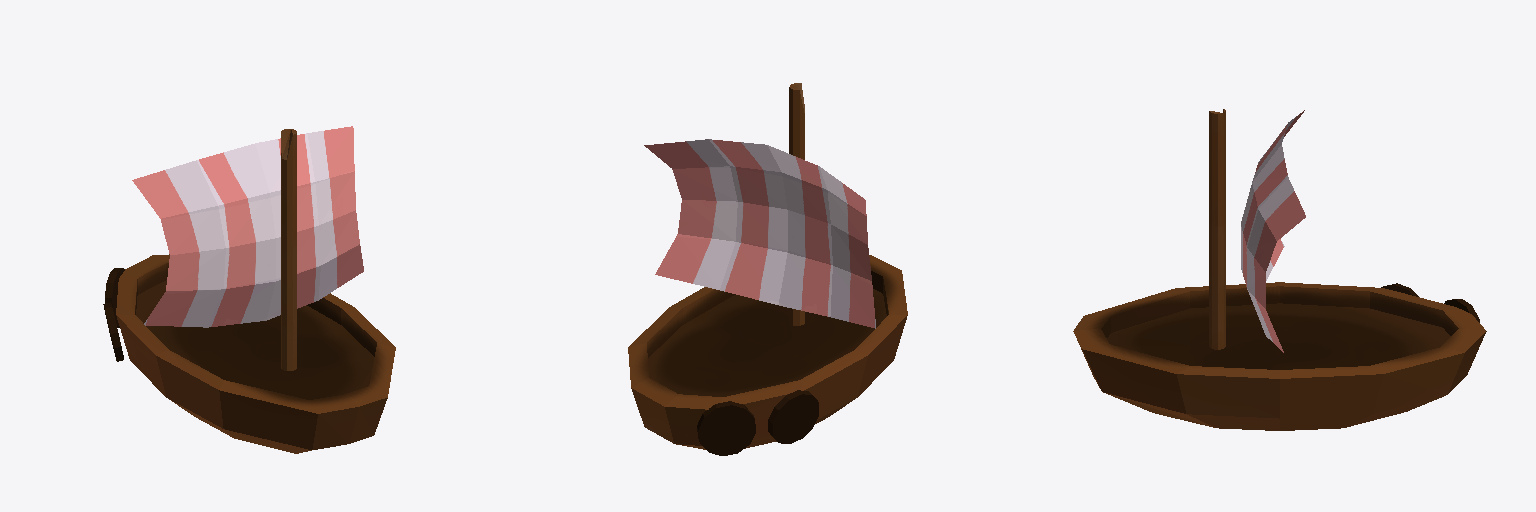
3 renders of one model, left to right at view 1: azimuth 30°, elevation 25°; view 2: azimuth 150°, elevation 25°; view 3: azimuth 270°, elevation 25°, orthographic.
Parts seen in each view (by area): view 1: Cube; view 2: Cube; view 3: Cube.
Boxes of the visible parts, x1,y1,x2,y2 form: Cube: [103, 126, 395, 453]; Cube: [628, 83, 907, 455]; Cube: [1073, 109, 1486, 430].
Bounding box in the file's own units: 0.9195 × 1.16 × 1.49.
1 materials, 1 textured.